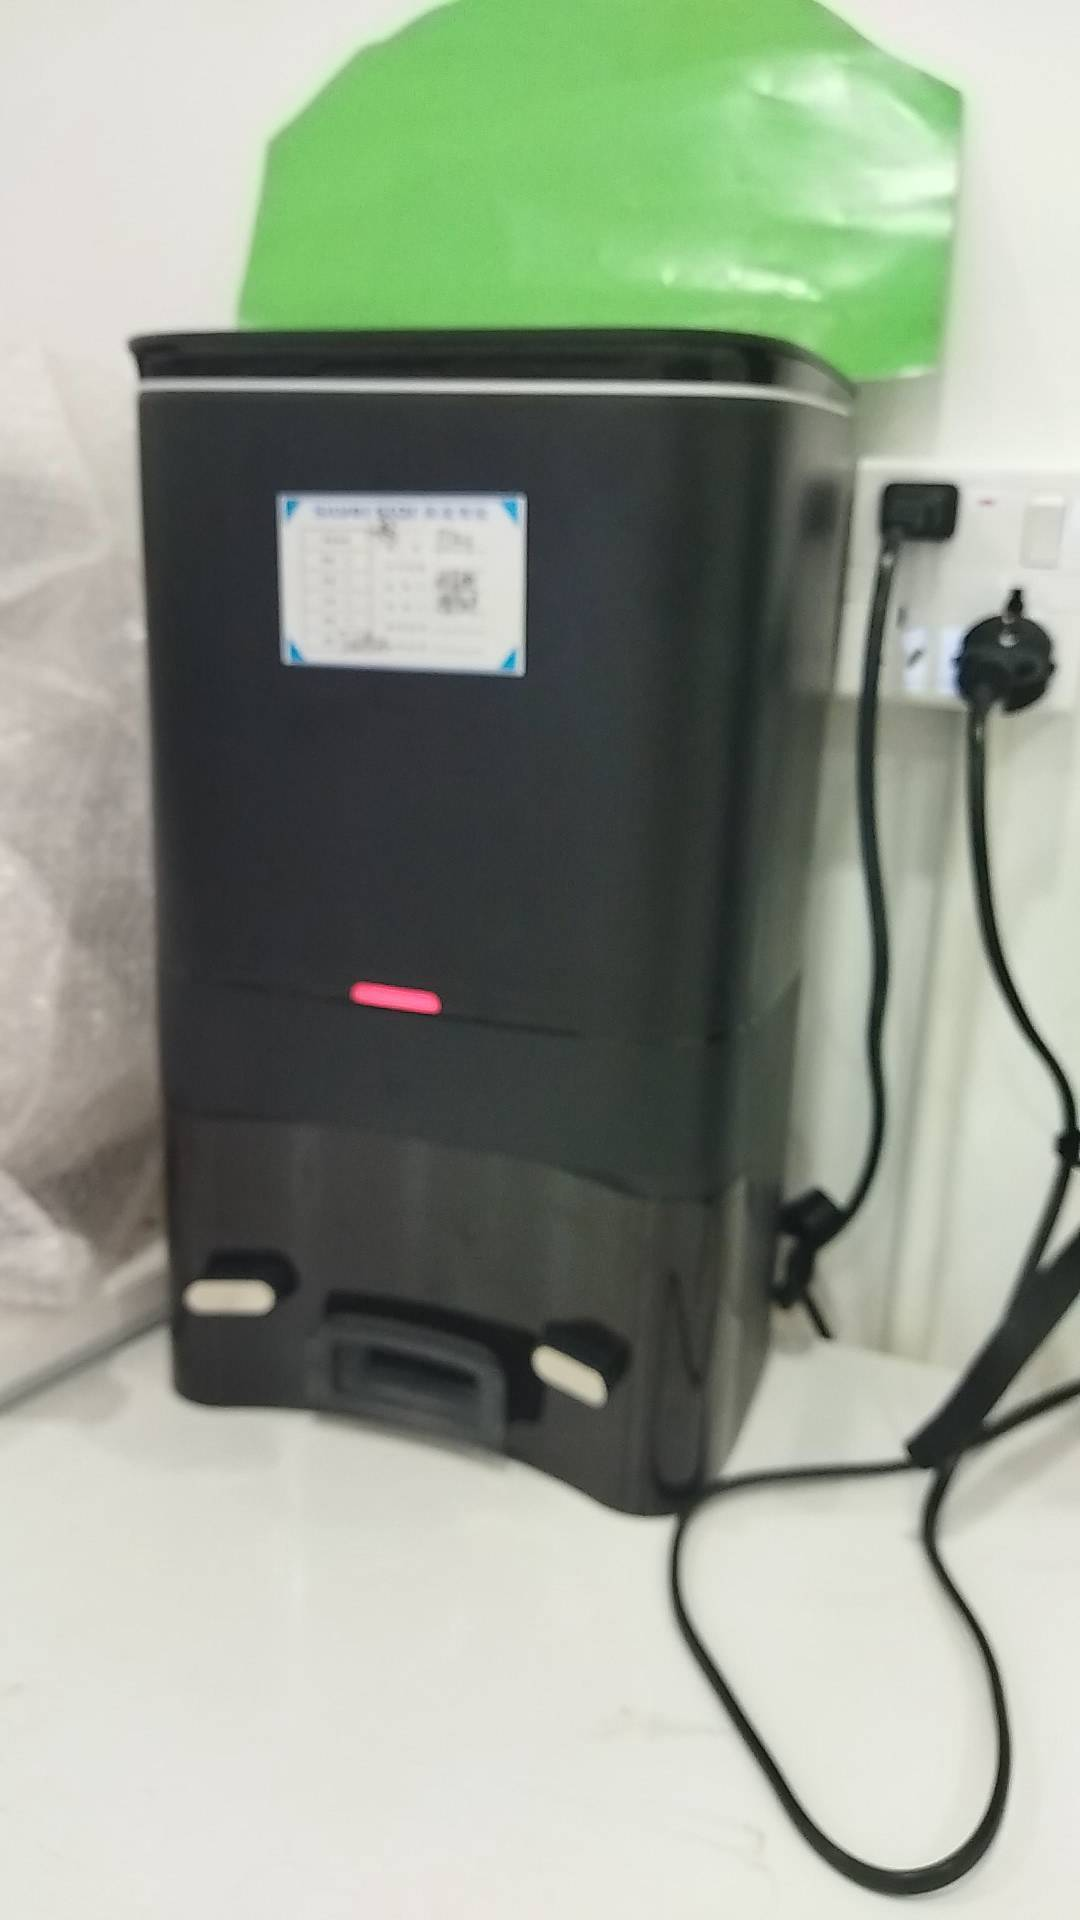dust collecting barrel: (123, 324, 864, 1516)
